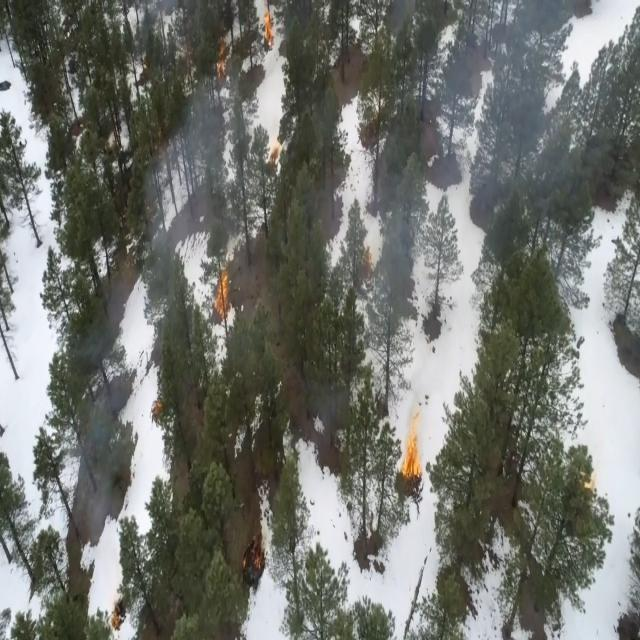Fire: (396, 386, 430, 501), (196, 254, 242, 328), (208, 26, 238, 94), (258, 0, 282, 54)
